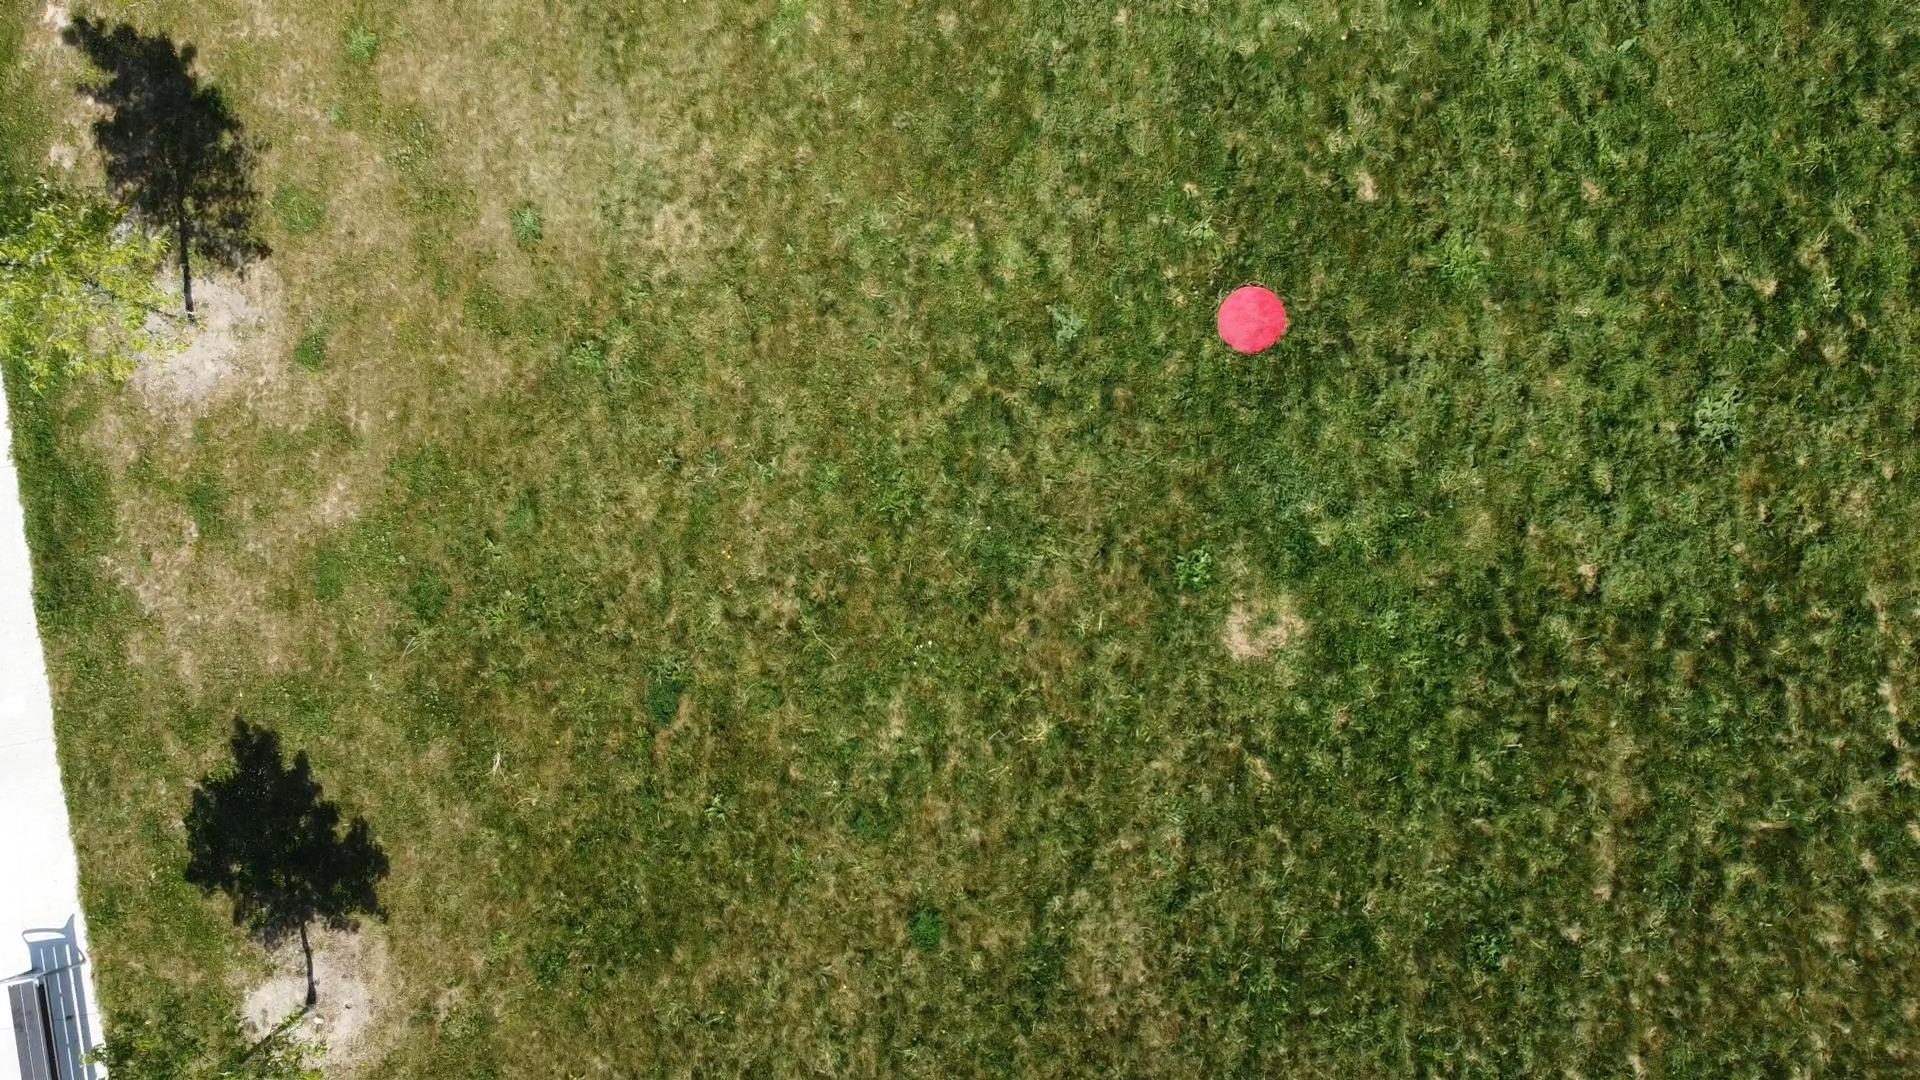Red: (1215, 282, 1292, 359)
